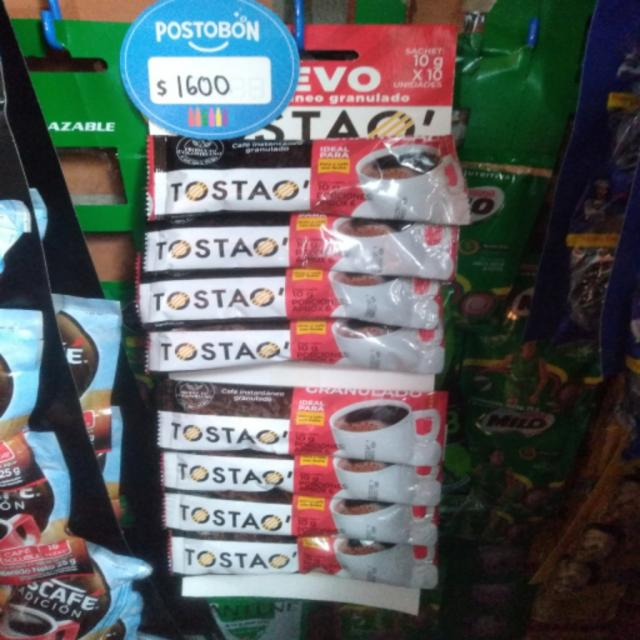Precio: (145, 60, 274, 109)
Sobre_cafe: (154, 143, 459, 220), (152, 386, 450, 451), (147, 222, 456, 278), (137, 271, 434, 327), (146, 316, 446, 371), (164, 490, 437, 539), (161, 454, 442, 499), (170, 536, 440, 581)
